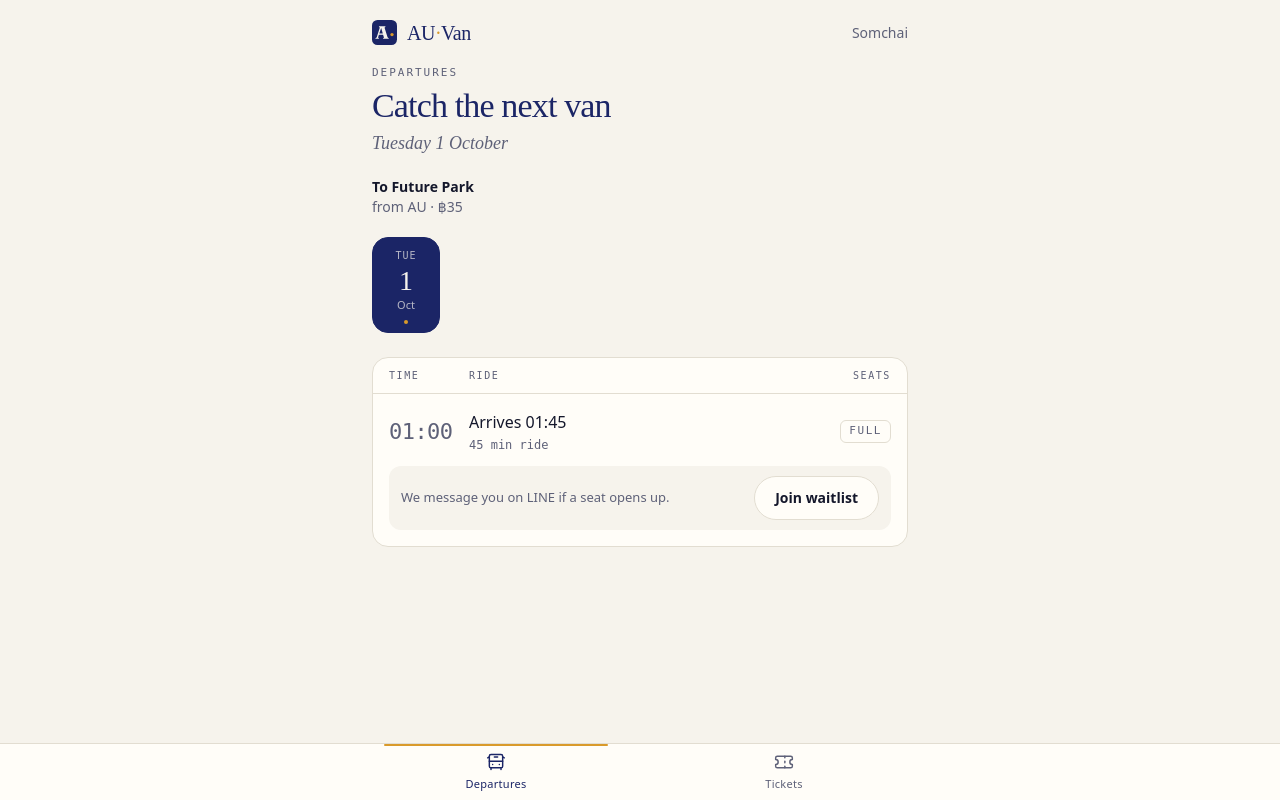
Student app waitlist › sends the student back to booking when the trip has a seat again
The width and height of the screenshot is (1280, 800).
Click the button "Join waitlist" at x=817, y=498, box [754,476,879,520]
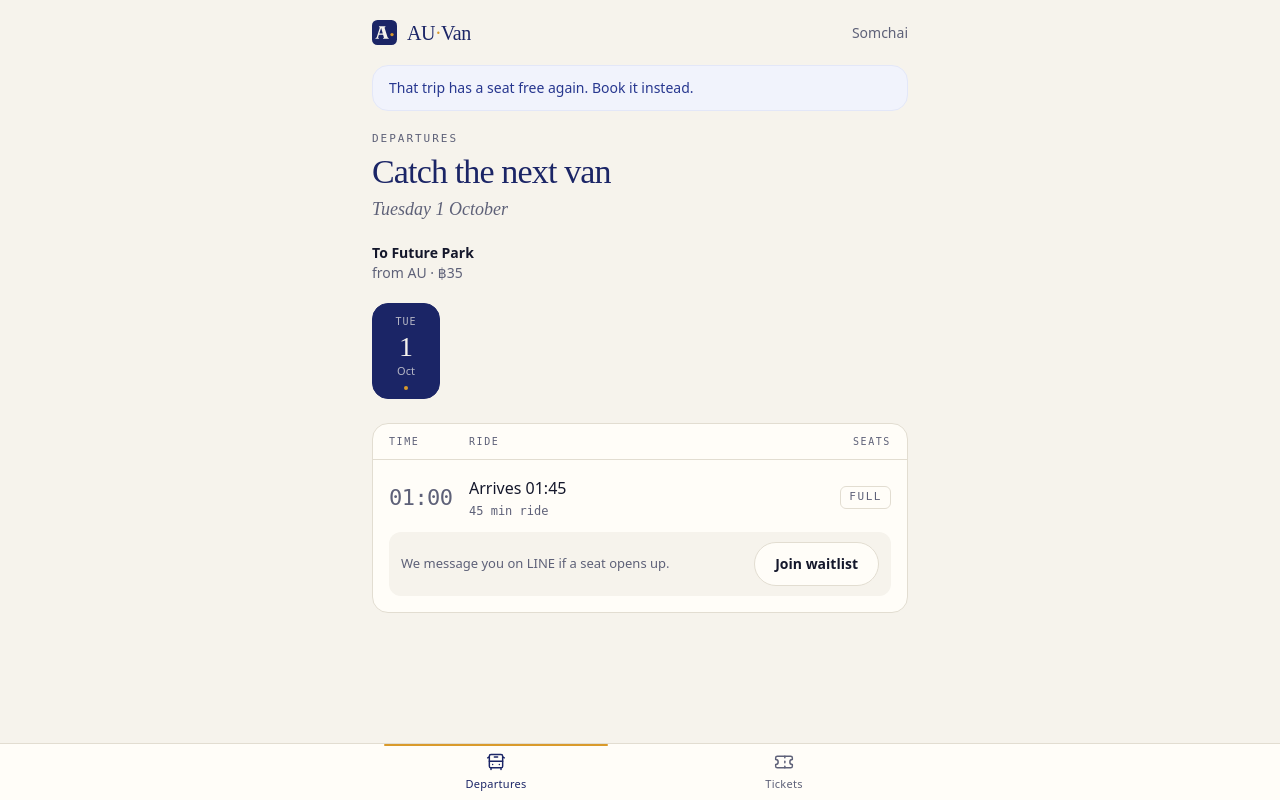
Expected: the text "That trip has a seat free again. Book it instead." is shown, [372,65,908,111]
